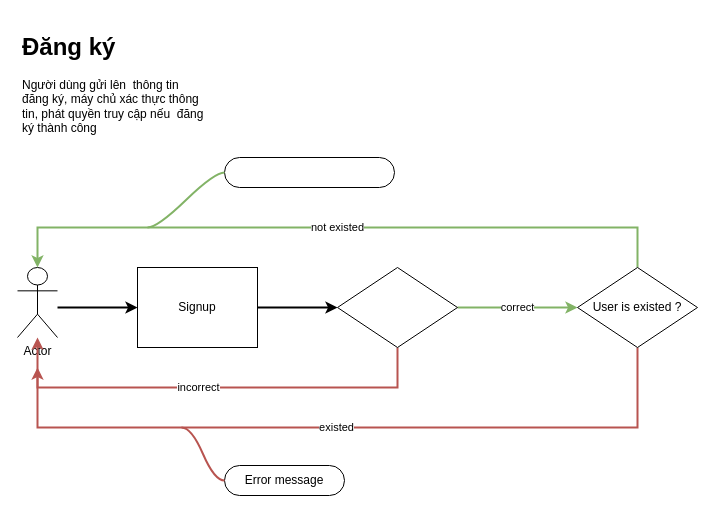
Some shapes in this 715 by 513 pixel diagram are drawn without their labels. Each missing label, with the centre of its shape:
accesstoken, permission: the point at 309,172
Info is correct?: the point at 397,307
